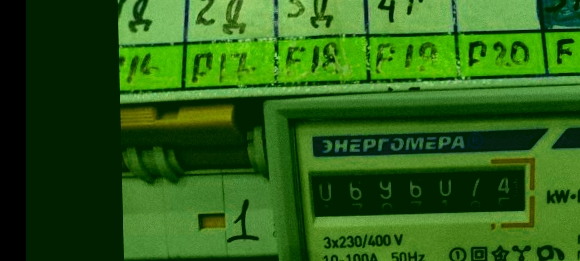0: (315, 177, 334, 201), (437, 172, 453, 197)
4: (495, 170, 511, 193)
5: (496, 195, 513, 211)
6: (408, 172, 425, 199), (347, 176, 364, 200)
7: (467, 172, 484, 197)
9: (377, 174, 393, 201)
screen: (298, 153, 540, 227)
